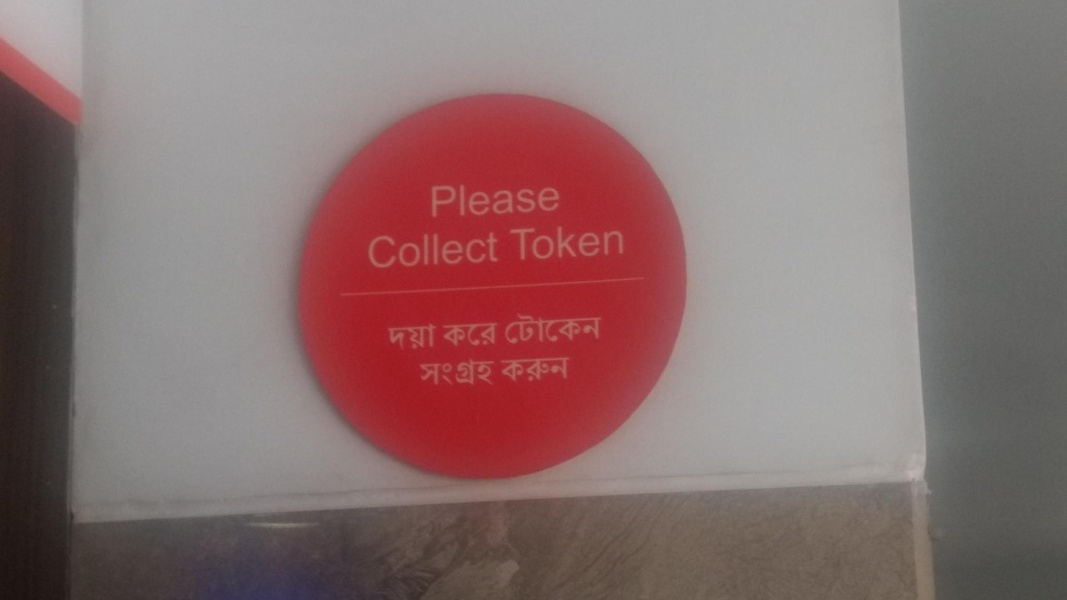text: (433, 181, 448, 222), (449, 181, 464, 222), (465, 181, 480, 222), (481, 181, 496, 222), (497, 181, 512, 222), (513, 181, 528, 222), (529, 181, 544, 222), (545, 181, 560, 222), (369, 229, 384, 270), (385, 229, 400, 270), (401, 229, 416, 270), (417, 229, 432, 270), (433, 229, 448, 270), (449, 229, 464, 270), (465, 229, 480, 270), (481, 229, 496, 270), (513, 226, 528, 266), (529, 226, 544, 266), (545, 226, 560, 266), (561, 226, 576, 266), (577, 226, 592, 266), (593, 226, 608, 266), (609, 226, 624, 266), (513, 311, 528, 346), (529, 311, 544, 346), (545, 311, 560, 346), (561, 311, 576, 346), (577, 311, 592, 346), (593, 311, 607, 346), (401, 321, 416, 353), (417, 321, 432, 353), (433, 358, 448, 385), (449, 358, 464, 385), (465, 358, 480, 385), (481, 358, 496, 385), (449, 321, 464, 348), (465, 321, 480, 348), (481, 321, 496, 348), (513, 357, 528, 384), (529, 357, 544, 384), (545, 357, 560, 384), (561, 357, 576, 384), (388, 321, 400, 353), (419, 358, 432, 385), (501, 357, 512, 384), (505, 226, 512, 266), (625, 226, 630, 266), (442, 321, 448, 348), (508, 311, 512, 346), (433, 321, 437, 353), (497, 229, 500, 270), (497, 321, 500, 348), (431, 181, 432, 222), (561, 181, 562, 222), (367, 229, 368, 270)
